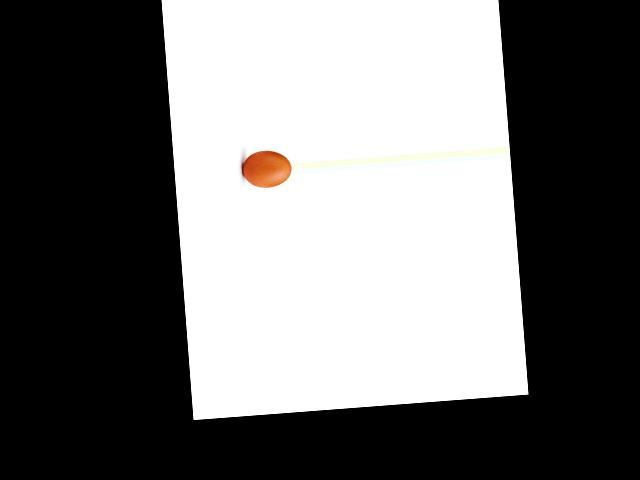egg: (241, 149, 292, 188)
